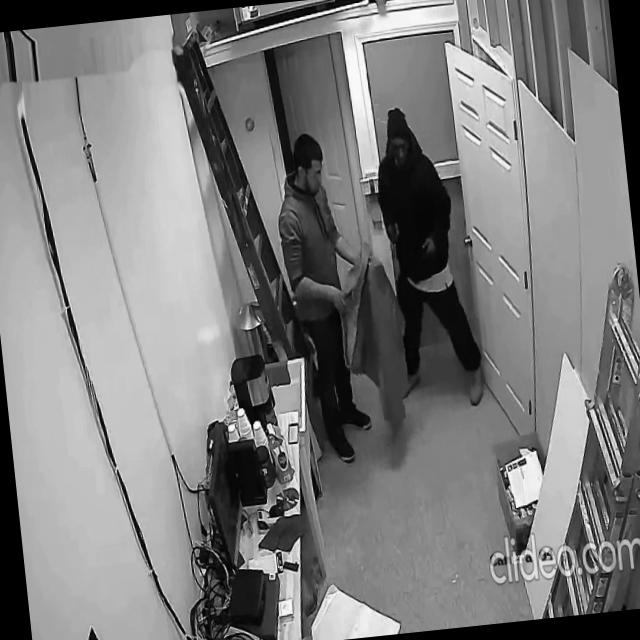gun: (386, 216, 399, 252)
person: (269, 125, 400, 468)
person with a gun: (368, 99, 489, 418)
